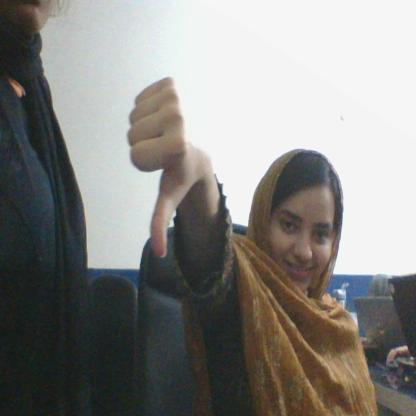thumbs-down: (113, 74, 203, 263)
